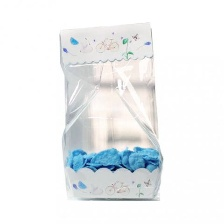snack: (51, 15, 170, 208)
